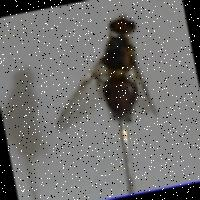Oriental-fruit-fly: (30, 10, 172, 154)
